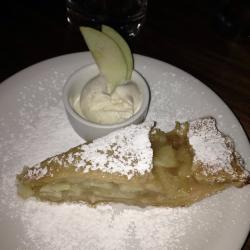apple_pie: (15, 117, 247, 209)
icecream: (74, 68, 143, 126)
